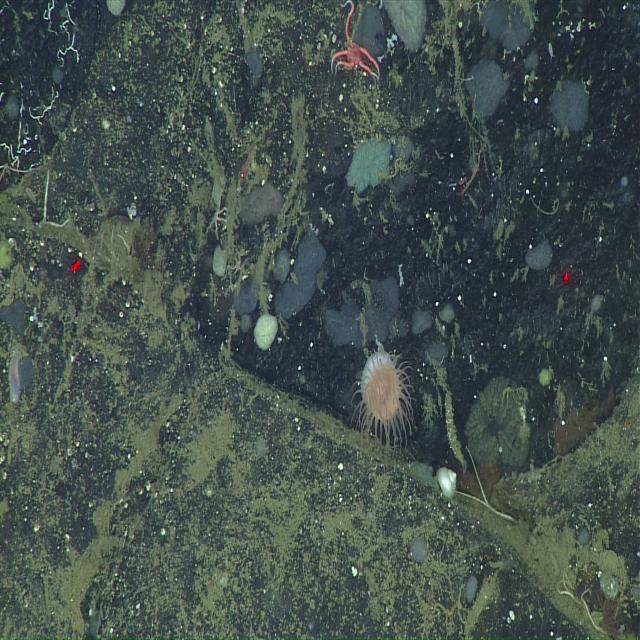Brittle Star: (204, 196, 230, 242), (227, 246, 252, 284)
Not Brittle Star: (348, 338, 419, 454), (251, 310, 281, 357), (5, 344, 25, 409)
